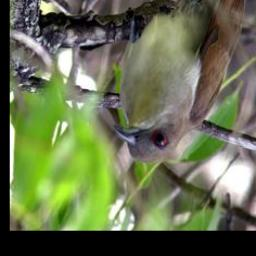Cuckoo: (113, 0, 247, 165)
